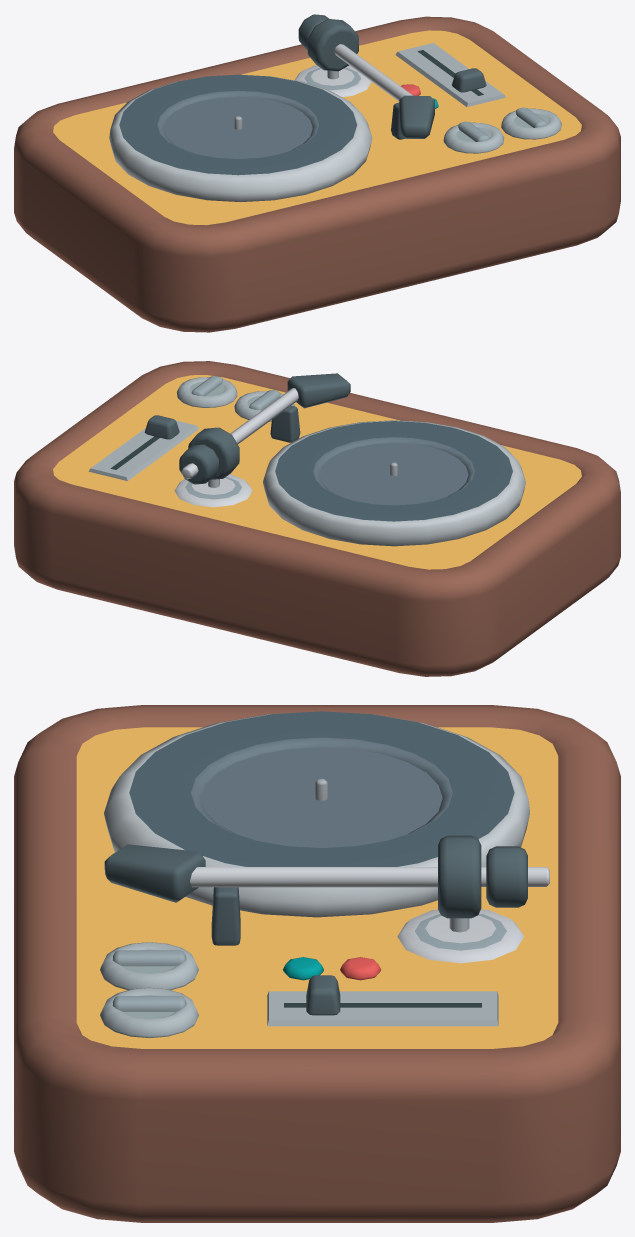
Rendered from Audio_04.glb.
3 renders of one model, top to bottom at view 1: azimuth 30°, elevation 25°; view 2: azimuth 150°, elevation 25°; view 3: azimuth 270°, elevation 25°, orthographic. The views are drawn at different scales.
Parts seen in each view (by area): view 1: Audio_04; view 2: Audio_04; view 3: Audio_04.
Part boxes in pixels (bbox=[...]): Audio_04: bbox=[14, 14, 620, 332]; Audio_04: bbox=[14, 361, 620, 676]; Audio_04: bbox=[14, 705, 620, 1222].
Size of the model in its own units: 0.5 by 0.1564 by 0.34.
1 material, 1 textured.
